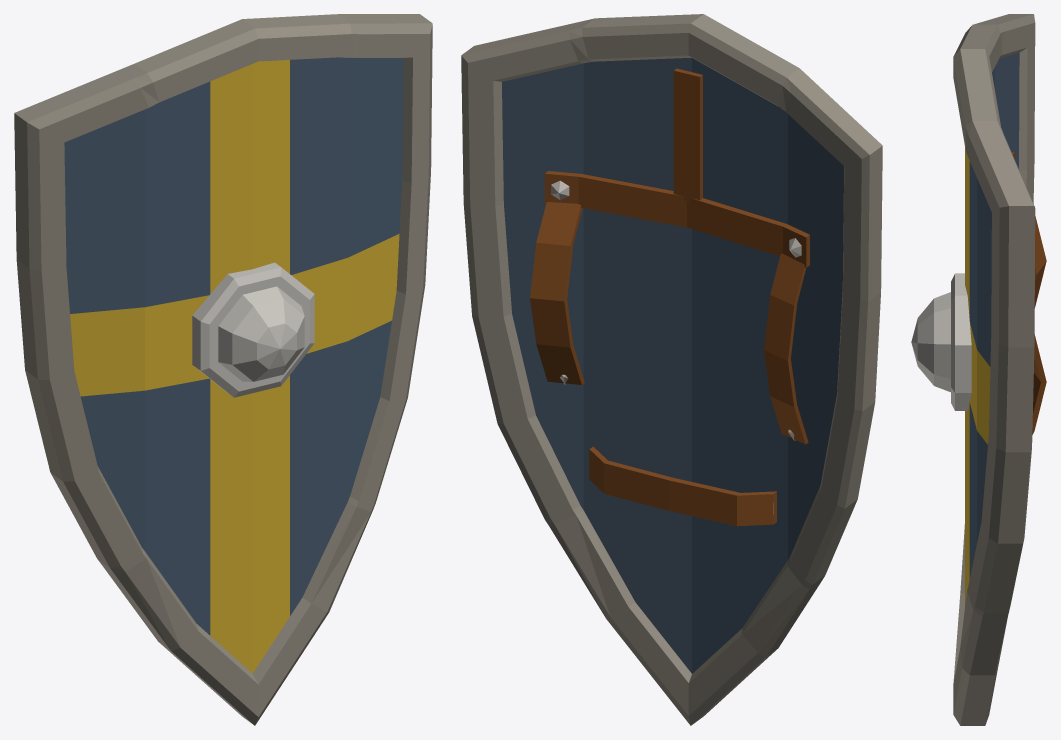
Rendered from kite-shield-343e62.glb.
3 views of the same model, side by side, from view 1: azimuth 30°, elevation 25°; view 2: azimuth 150°, elevation 25°; view 3: azimuth 270°, elevation 25° (orthographic). The views are drawn at different scales.
Visible parts, largest first — view 1: shield; view 2: shield; view 3: shield.
Boxes of the visible parts, box(x1,y1,x2,y2) form: shield: box(14, 14, 432, 725); shield: box(461, 14, 882, 725); shield: box(911, 14, 1046, 725).
Size of the model in its own units: 0.56 by 0.92 by 0.1668.
